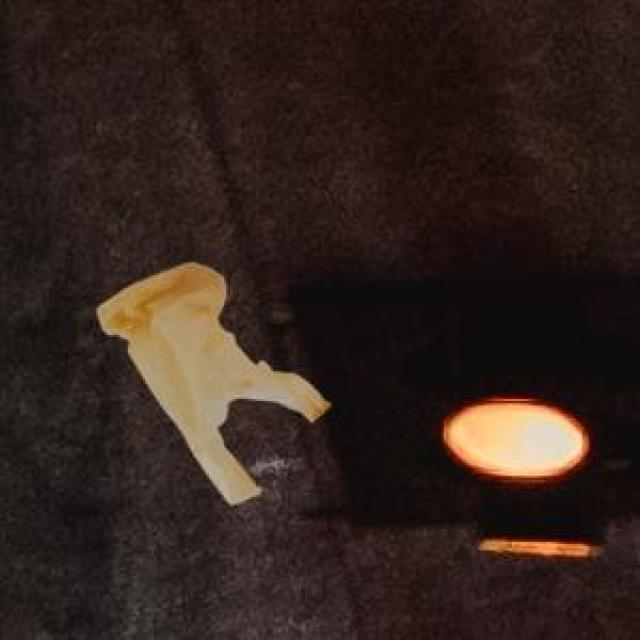waste: (98, 262, 330, 504)
